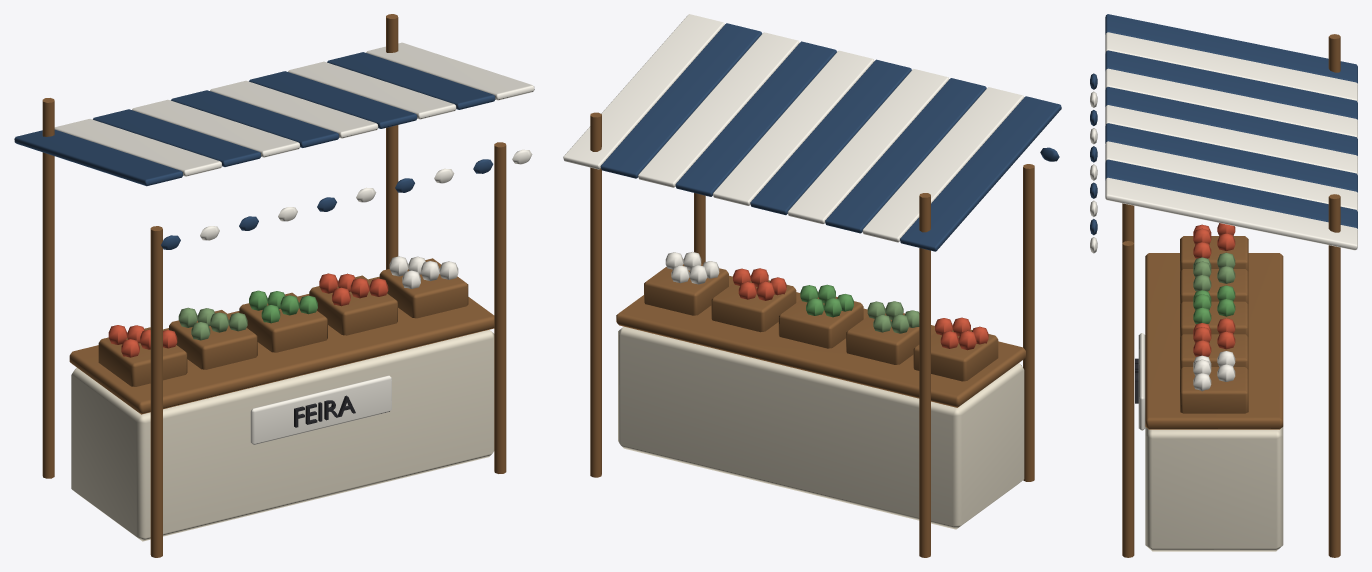
File: market_stall.glb
3 renders of one model, left to right at view 1: azimuth 30°, elevation 25°; view 2: azimuth 150°, elevation 25°; view 3: azimuth 270°, elevation 25°, orthographic. The views are drawn at different scales.
Visible parts, largest first — view 1: market_stall; view 2: market_stall; view 3: market_stall.
Part boxes in pixels (bbox=[...]): market_stall: bbox=[14, 14, 534, 557]; market_stall: bbox=[563, 14, 1061, 557]; market_stall: bbox=[1090, 14, 1357, 557].
Size of the model in its own units: 2.49 by 2.38 by 1.56.
